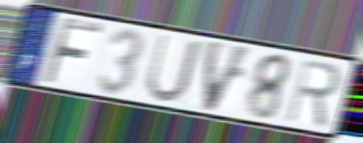3: (96, 25, 148, 100)
8: (243, 52, 293, 121)
F: (39, 15, 105, 87)
R: (283, 57, 343, 130)
U: (143, 31, 204, 105)
V: (200, 36, 256, 115)
